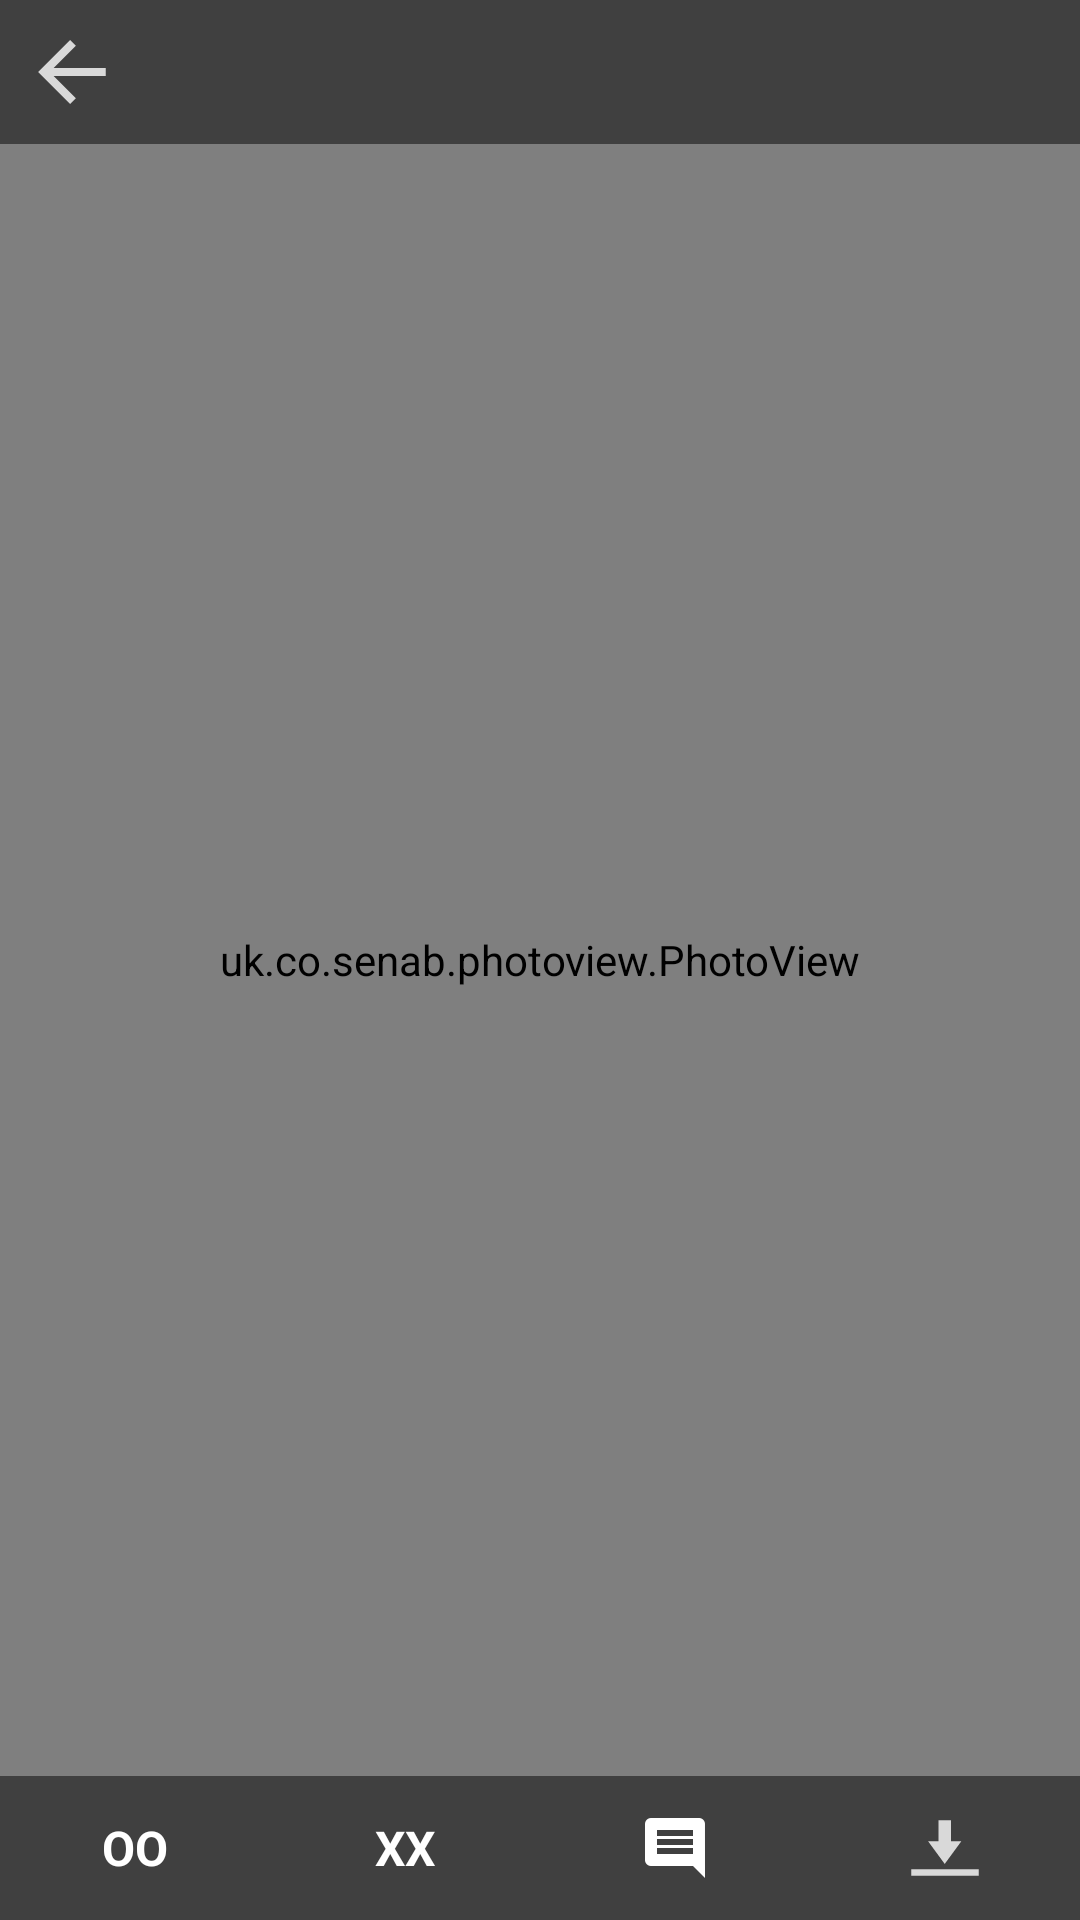

Named icons in this screenshot (1080×1920) and their centers, [x,y]:
back: [72,72]
chat: [675,1848]
download: [945,1848]
